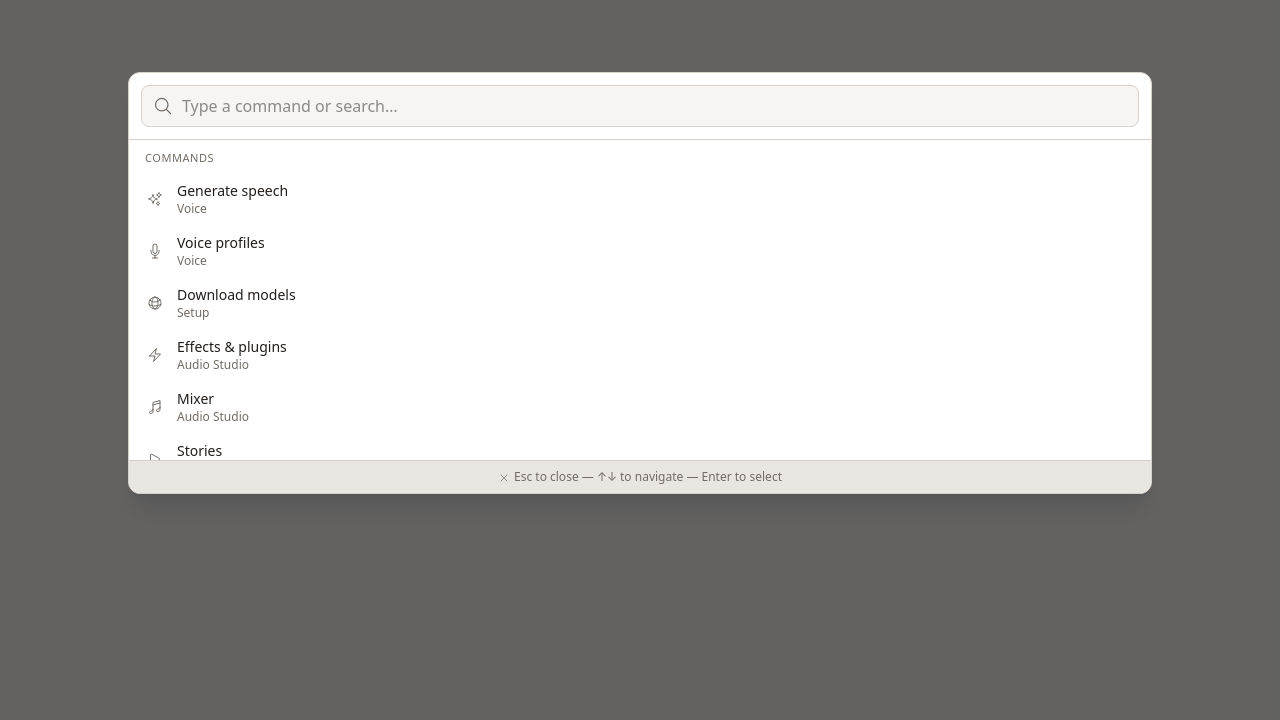
Test: CommandPalette › CommandPalette — settings from the schema › finds a setting by label and navigates to the schema page
Later steps or results of the test are not shown.
Type "theme" into the field with placeholder "Type a command or search…" at (640, 106), box [141, 85, 1139, 127]
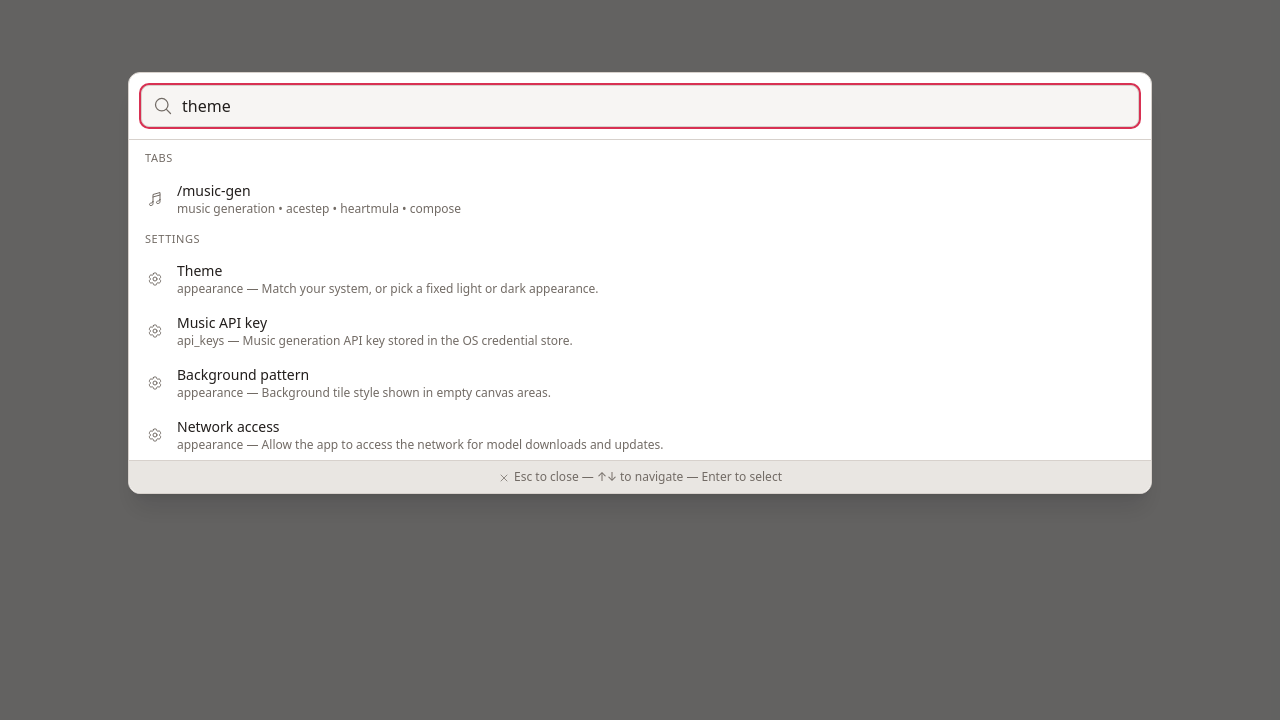
Expected: the text "Theme" is shown, [177, 261, 222, 280]
Expected: the text "Settings" is shown, [145, 230, 200, 246]
